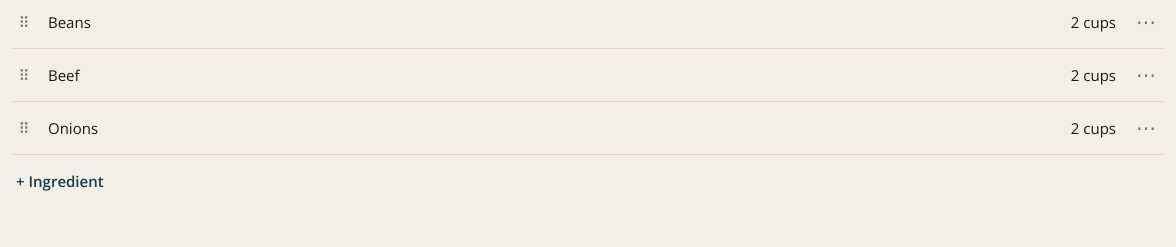
Scenario: IngredientList author mode › Name_SaysWhenThePriceBookHasNoPackage
Click the button "Beef": x=64, y=75 x1=48 y1=64 x2=80 y2=86
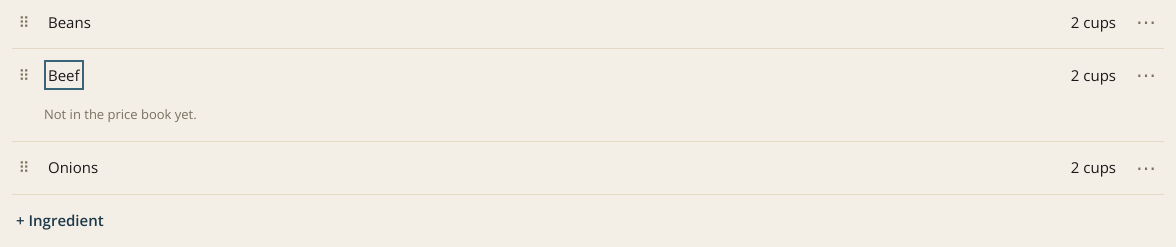
Expected: the list item "Beef" shows "Not in the price book yet.", x1=44 y1=105 x2=197 y2=123
